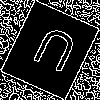U: (25, 24, 81, 82)
